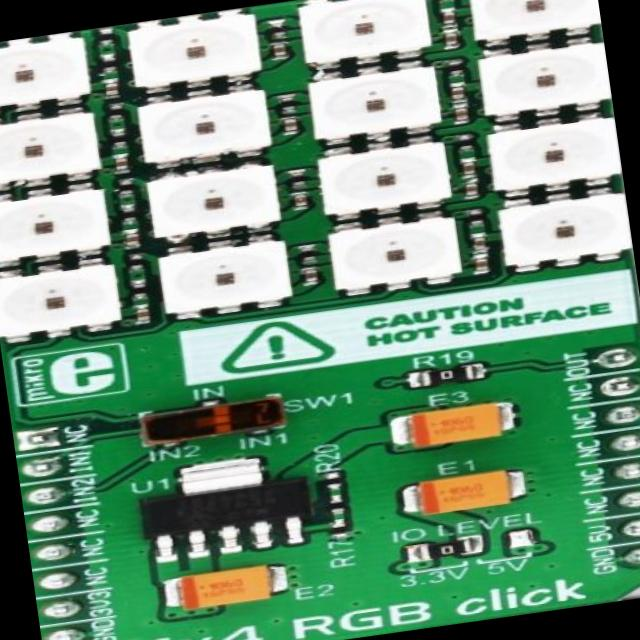IC: (144, 456, 310, 558)
LED: (136, 90, 274, 170), (308, 66, 452, 142), (482, 118, 623, 194), (500, 190, 633, 268), (160, 239, 296, 315), (479, 44, 612, 120), (148, 166, 284, 240), (126, 13, 259, 86), (320, 140, 451, 214), (336, 216, 462, 288), (0, 189, 116, 267), (0, 266, 121, 338), (298, 0, 428, 63), (0, 33, 97, 114), (0, 112, 101, 187), (464, 0, 602, 46)
capacitor: (407, 396, 517, 451), (169, 564, 283, 616), (413, 470, 519, 518), (120, 232, 142, 250), (458, 181, 482, 196), (459, 160, 479, 177), (472, 256, 492, 273), (290, 190, 308, 208), (442, 33, 463, 48), (451, 105, 470, 121), (138, 306, 156, 322), (304, 269, 324, 283), (439, 10, 458, 24), (449, 85, 468, 99), (282, 119, 300, 132), (105, 83, 119, 99), (472, 236, 488, 250), (272, 45, 288, 57), (116, 158, 132, 170)
resistor: (415, 534, 482, 562), (420, 364, 483, 387), (112, 178, 142, 200), (268, 20, 300, 40), (453, 129, 477, 152), (300, 244, 322, 266), (286, 169, 312, 187), (118, 207, 142, 226), (468, 210, 488, 232), (129, 281, 150, 301), (96, 30, 118, 48), (278, 96, 302, 112), (326, 498, 348, 514), (109, 129, 129, 146), (322, 474, 343, 489), (106, 103, 123, 121), (448, 60, 467, 76), (103, 56, 119, 72), (130, 255, 146, 268), (436, 0, 460, 3)
